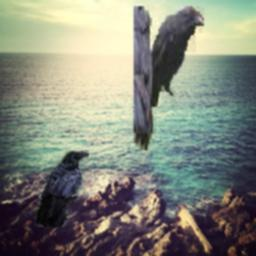Crow: (135, 7, 205, 151), (36, 150, 90, 227)
